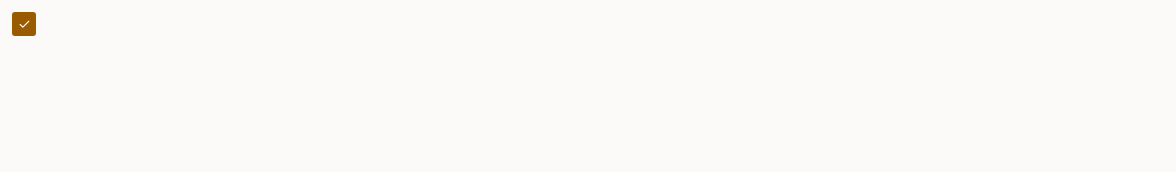
Test: QuickAddButton — signed-out taps reach the consent notice (BIN-645) › treats a signed-in user with no loaded profile as signed IN
Click the button titled "Följer" at [24, 24], box [12,12,36,36]
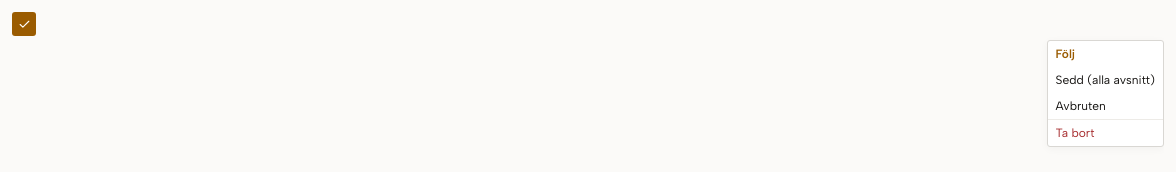
Check: the button "Följ" is shown, box [1048,41,1163,67]
